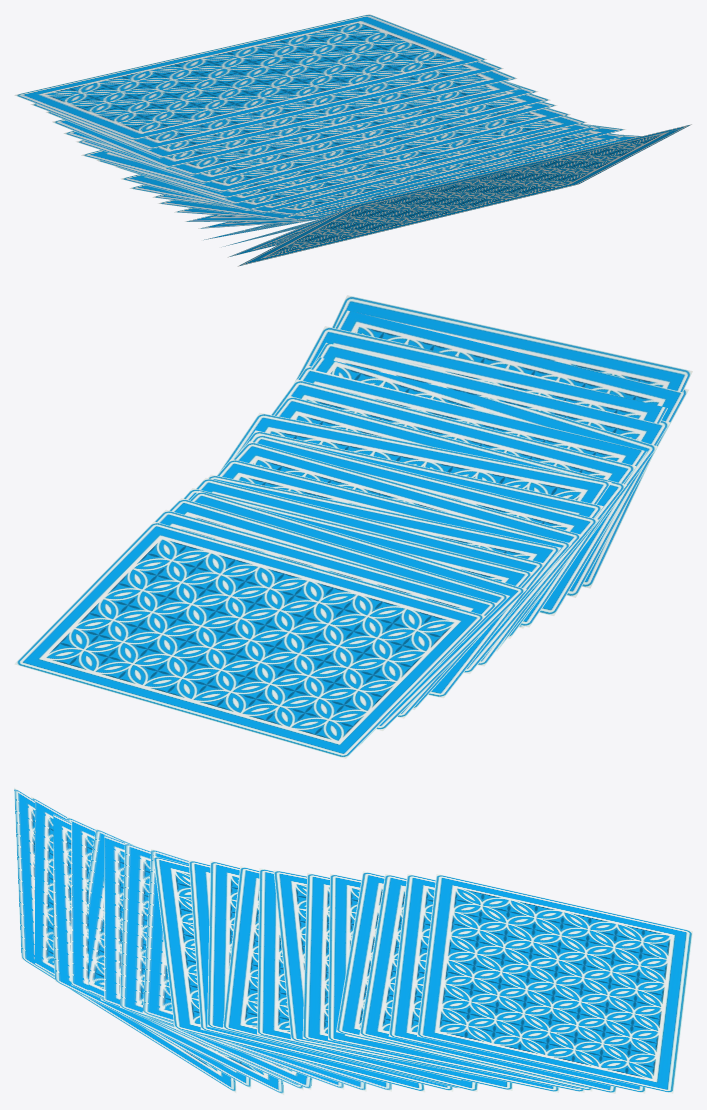
3 renders of one model, top to bottom at view 1: azimuth 30°, elevation 25°; view 2: azimuth 150°, elevation 25°; view 3: azimuth 270°, elevation 25°, orthographic.
Parts seen in each view (by area): view 1: Cards; view 2: Cards; view 3: Cards.
Boxes of the visible parts, left/top/right/bottom form: Cards: left=14, top=14, right=691, bottom=266; Cards: left=14, top=295, right=692, bottom=758; Cards: left=14, top=787, right=692, bottom=1094.
Bounding box in the file's own units: 1.59 × 0.5953 × 2.58.
Materials: 1 (1 with a texture image).
